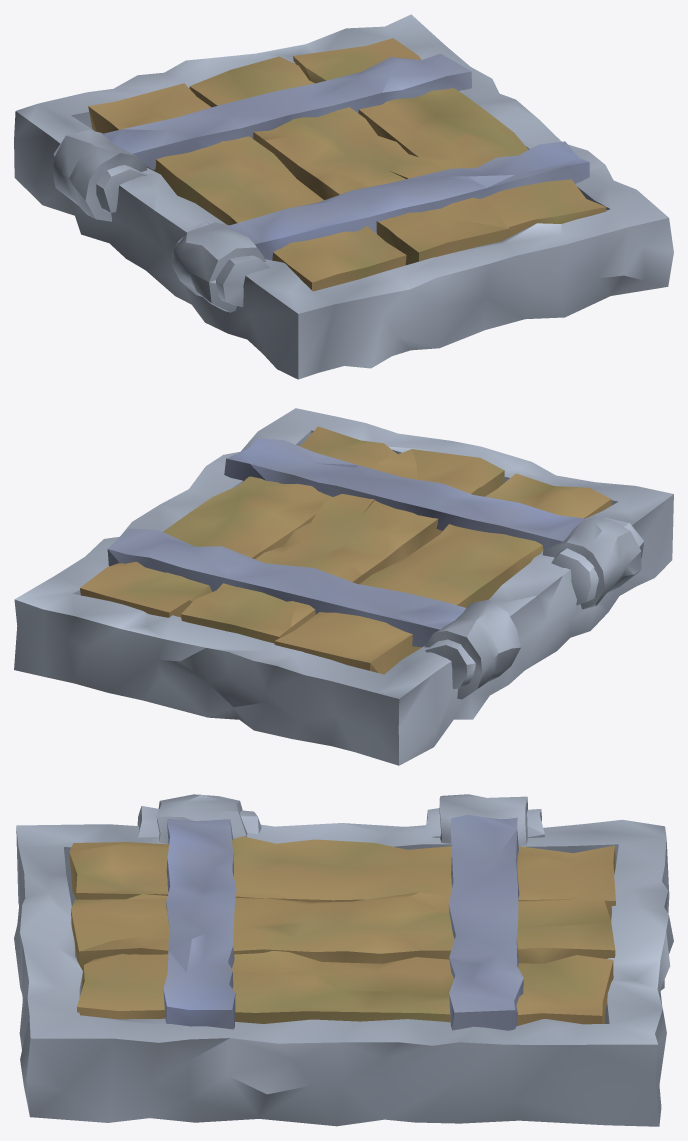
The model's file is Hatch01.fbx.
3 renders of one model, top to bottom at view 1: azimuth 30°, elevation 25°; view 2: azimuth 150°, elevation 25°; view 3: azimuth 270°, elevation 25°, orthographic. The views are drawn at different scales.
Parts seen in each view (by area): view 1: Door1, Frame1; view 2: Door1, Frame1; view 3: Door1, Frame1.
Boxes of the visible parts, <box> form: Door1: <box>53,38,606,312</box>; Frame1: <box>14,14,673,379</box>; Door1: <box>80,426,641,699</box>; Frame1: <box>14,408,673,765</box>; Door1: <box>69,794,615,1030</box>; Frame1: <box>14,806,673,1126</box>.
Bounding box in the file's own units: 103 × 23.49 × 121.
